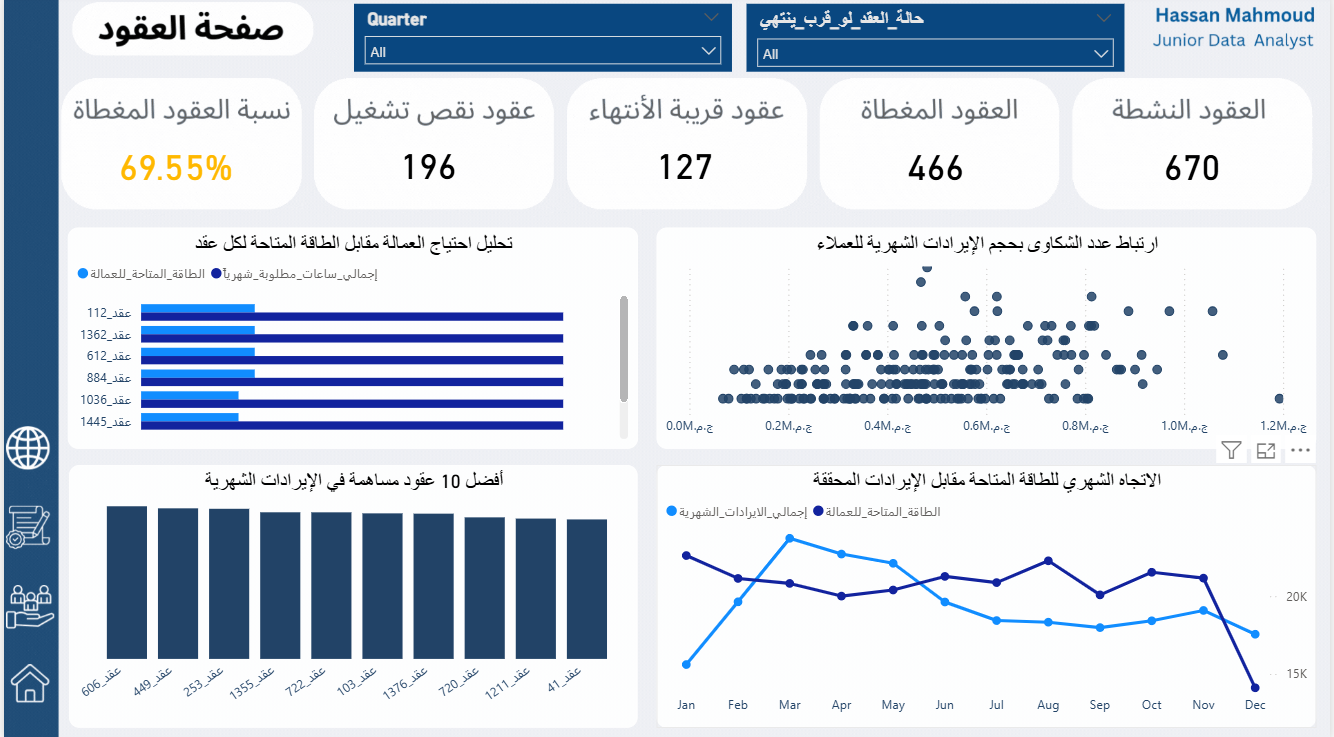

What the dashboard file says about the page in this screenshot:
{"tool":"powerbi","page":{"name":"Contructs ","canvas":[1280,720],"ordinal":3},"visuals":[{"type":"card","fields":{"Values":["_Measures.نسبة_العقود_المغطاة_تشغيليا"]},"box":[80.8,127.9,170.1,72.4],"z":0},{"type":"card","fields":{"Values":["_Measures.decrease_contract"]},"box":[324.5,126.7,170.1,72.4],"z":1000},{"type":"card","fields":{"Values":["_Measures.عدد_العقود_النشطة"]},"box":[1061.7,127.9,170.1,72.4],"z":2000},{"type":"card","fields":{"Values":["_Measures.عدد_العقود_قريبة_الأنتهاء"]},"box":[571.9,127.9,170.1,71.2],"z":3000},{"type":"card","fields":{"Values":["_Measures.عدد_العقود_المغطاة_تشغيليا"]},"box":[814.3,127.9,170.1,72.4],"z":4000},{"type":"clusteredBarChart","title":"تحليل احتياج العمالة مقابل الطاقة المتاحة لكل عقد","fields":{"Category":["عقود.اسم_العقد"],"Y":["_Measures.الطاقة_المتاحة_للعمالة","_Measures.إجمالي_ساعات_مطلوبة_شهرياً"]},"box":[61.5,224.4,550,213.5],"z":5000},{"type":"columnChart","title":"\tأفضل 10 عقود مساهمة في الإيرادات الشهرية","fields":{"Category":["عقود.اسم_العقد"],"Y":["_Measures.إجمالي_الايرادات_الشهرية"]},"box":[62.7,453.6,548.9,253.4],"z":6000},{"type":"scatterChart","title":"\tارتباط عدد الشكاوى بحجم الإيرادات الشهرية للعملاء","fields":{"X":["_Measures.إجمالي_الايرادات_الشهرية"],"Y":["_Measures.عدد_الشكاوي"],"Category":["عملاء.اسم_العميل"]},"box":[629.8,224.4,637,213.5],"z":7000},{"type":"lineChart","title":"الاتجاه الشهري للطاقة المتاحة مقابل الإيرادات المحققة","fields":{"Y":["_Measures.إجمالي_الايرادات_الشهرية"],"Category":["التقويم.MonthNameShort"],"Y2":["_Measures.الطاقة_المتاحة_للعمالة"]},"box":[629.8,453.6,637,253.4],"z":8000},{"type":"actionButton","box":[0,409,51.9,56.7],"z":9000},{"type":"actionButton","box":[0,558.6,51.9,56.7],"z":10000},{"type":"actionButton","box":[1.2,639.4,50.7,54.3],"z":11000},{"type":"slicer","fields":{"Values":["عقود.حالة_العقد_لو_قرب_ينتهي"]},"box":[716.5,9,364.7,65.5],"z":12000},{"type":"slicer","fields":{"Values":["التقويم.Quarter"]},"box":[337.7,9,364.7,65.5],"z":13000}]}

Visuals, with their boxes in screenshot pixels (x1, y1, x2, y2), scaled from the page's 1280x720 canvas onto the 1334x737 screenshot:
card - _Measures.نسبة_العقود_المغطاة_تشغيليا: 84, 131, 261, 205
card - _Measures.decrease_contract: 338, 130, 515, 204
card - _Measures.عدد_العقود_النشطة: 1106, 131, 1284, 205
card - _Measures.عدد_العقود_قريبة_الأنتهاء: 596, 131, 773, 204
card - _Measures.عدد_العقود_المغطاة_تشغيليا: 849, 131, 1026, 205
"تحليل احتياج العمالة مقابل الطاقة المتاحة لكل عقد" clusteredBarChart: 64, 230, 637, 448
"	أفضل 10 عقود مساهمة في الإيرادات الشهرية" columnChart: 65, 464, 637, 724
"	ارتباط عدد الشكاوى بحجم الإيرادات الشهرية للعملاء" scatterChart: 656, 230, 1320, 448
"الاتجاه الشهري للطاقة المتاحة مقابل الإيرادات المحققة" lineChart: 656, 464, 1320, 724
actionButton: 0, 419, 54, 477
actionButton: 0, 572, 54, 630
actionButton: 1, 654, 54, 710
slicer - عقود.حالة_العقد_لو_قرب_ينتهي: 747, 9, 1127, 76
slicer - التقويم.Quarter: 352, 9, 732, 76
